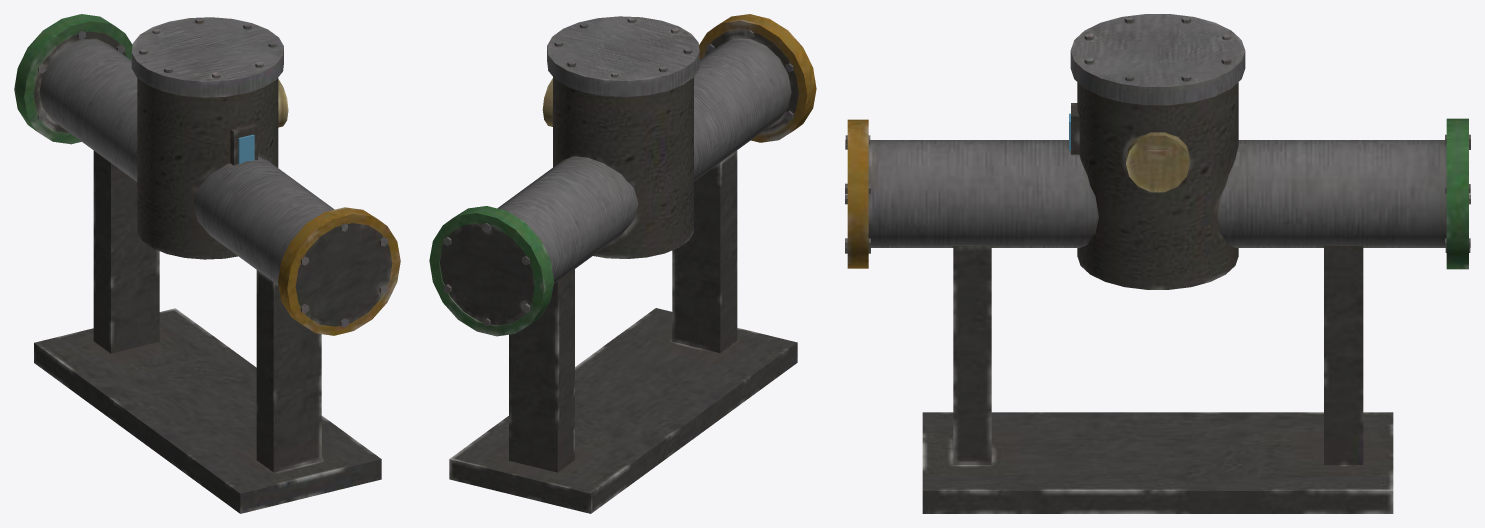
The model's file is feValveSeparator.glb.
The picture shows the model from 3 angles, left to right: view 1: azimuth 30°, elevation 25°; view 2: azimuth 150°, elevation 25°; view 3: azimuth 270°, elevation 25°; orthographic projection. The views are drawn at different scales.
Visible parts, largest first — view 1: feValveSeparator_Base; view 2: feValveSeparator_Base; view 3: feValveSeparator_Base.
Boxes of the visible parts, x1,y1,x2,y2 form: feValveSeparator_Base: (14, 14, 400, 513); feValveSeparator_Base: (429, 14, 816, 513); feValveSeparator_Base: (845, 14, 1470, 513).
Bounding box in the file's own units: 0.3012 × 0.7625 × 1.01.
2 materials, 1 textured.
